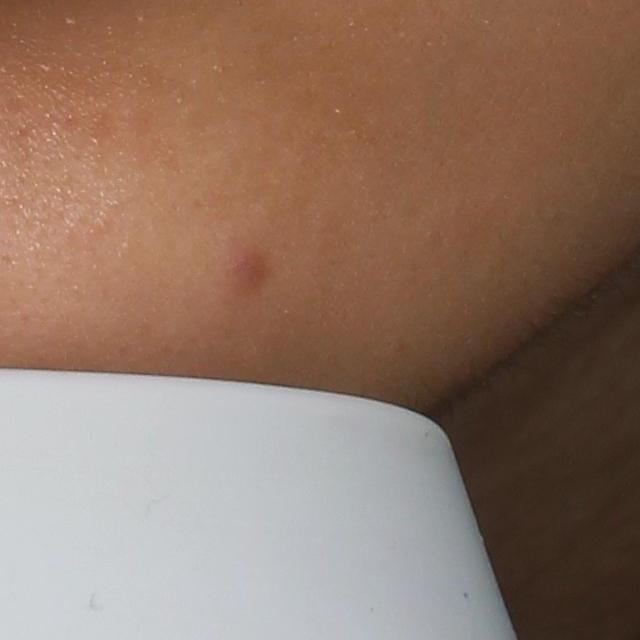papule: (217, 243, 270, 305)
